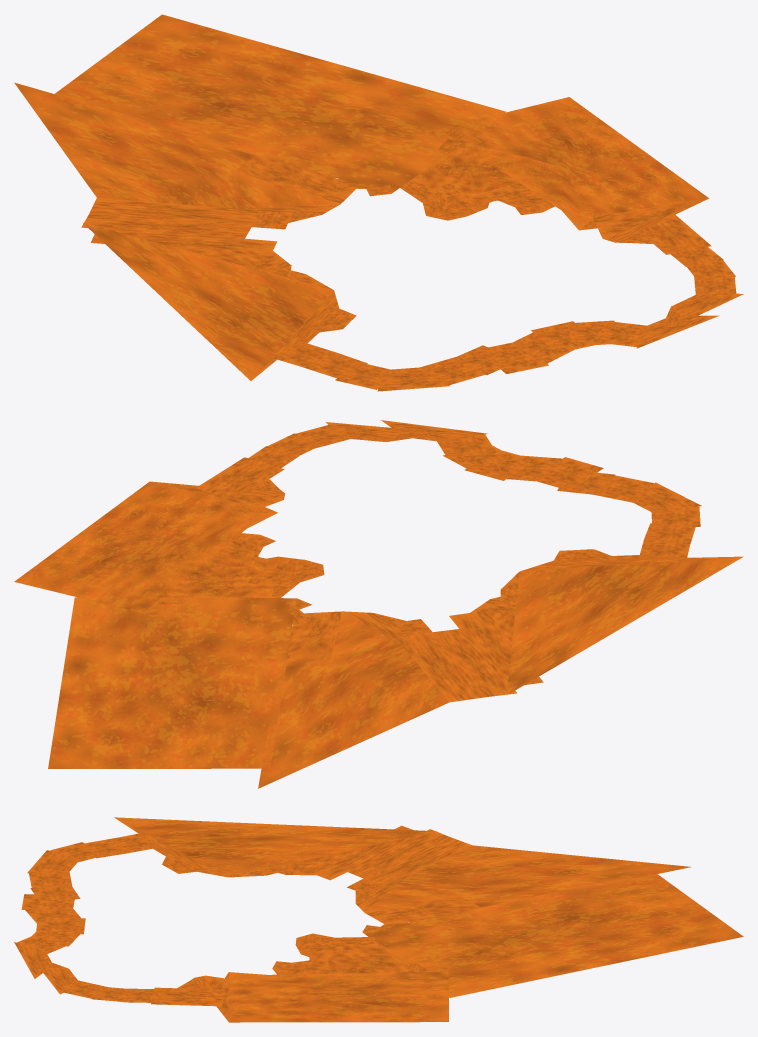
File: LV7Nav.fbx
3 views of the same model, one above another, from view 1: azimuth 30°, elevation 25°; view 2: azimuth 150°, elevation 25°; view 3: azimuth 270°, elevation 25° (orthographic). The views are drawn at different scales.
Visible parts, largest first — view 1: polySurface201; view 2: polySurface201; view 3: polySurface201.
Part boxes in pixels (x1=…): polySurface201: x1=14, y1=14, x2=743, y2=391; polySurface201: x1=14, y1=420, x2=743, y2=788; polySurface201: x1=14, y1=817, x2=743, y2=1022.
Bounding box in the file's own units: 559 × 0 × 840.
